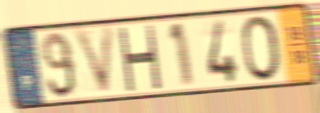1: (168, 20, 196, 89)
4: (206, 17, 239, 86)
9: (40, 30, 78, 100)
H: (116, 25, 163, 92)
O: (239, 13, 284, 83)
V: (71, 23, 118, 100)
